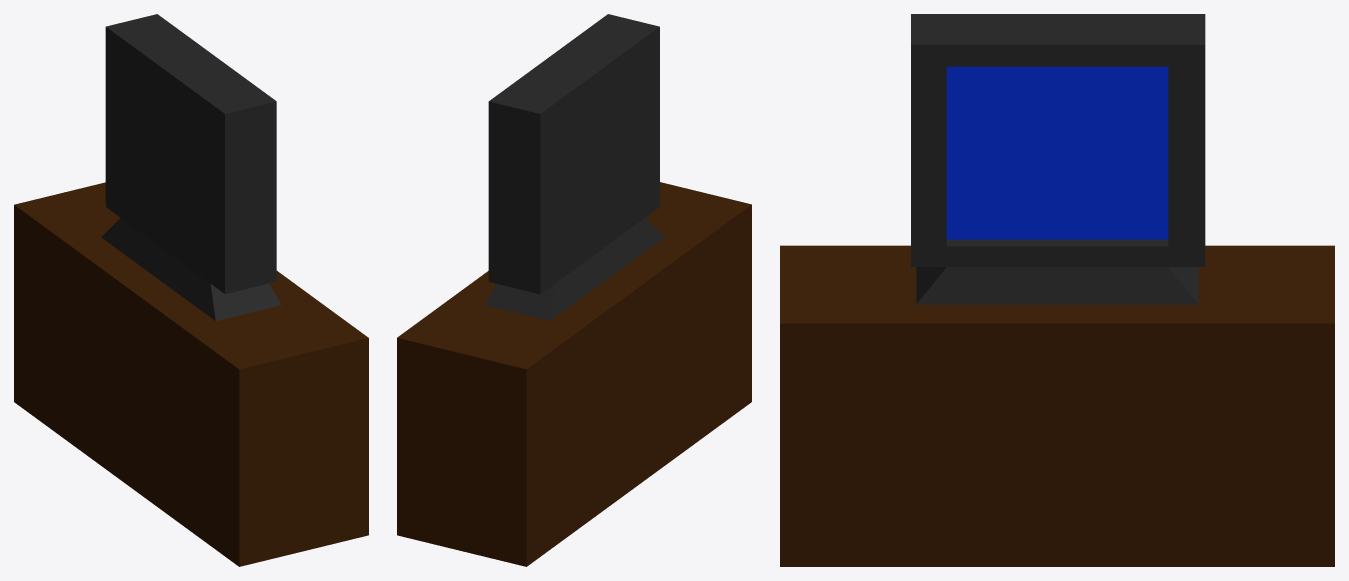
3 views of the same model, side by side, from view 1: azimuth 30°, elevation 25°; view 2: azimuth 150°, elevation 25°; view 3: azimuth 270°, elevation 25° (orthographic). The views are drawn at different scales.
Parts seen in each view (by area): view 1: Cube; view 2: Cube; view 3: Cube.
Boxes of the visible parts, bbox=[...] form: Cube: bbox=[14, 14, 368, 566]; Cube: bbox=[397, 14, 751, 566]; Cube: bbox=[780, 14, 1334, 566].
Bounding box in the file's own units: 501 × 1496 × 1509.
